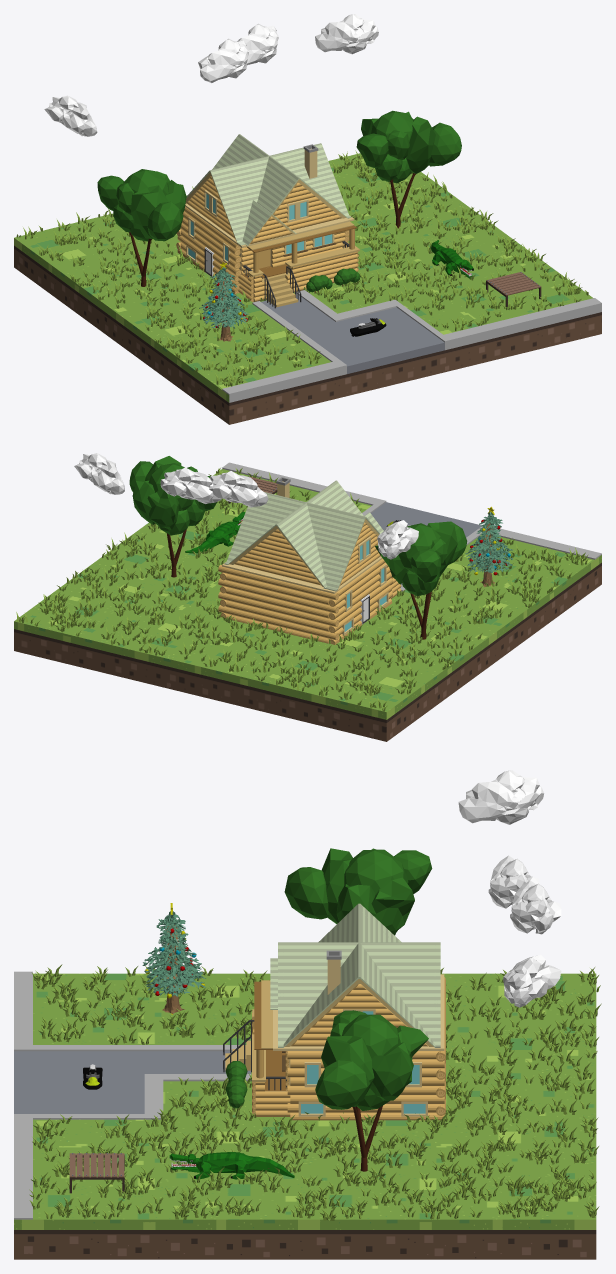
3 views of the same model, one above another, from view 1: azimuth 30°, elevation 25°; view 2: azimuth 150°, elevation 25°; view 3: azimuth 270°, elevation 25° (orthographic). The views are drawn at different scales.
Parts seen in each view (by area): view 1: Cube.006, Cube.1516, Circle.012_Grass_0.192, Cube.007, tree, tree.001, OBJRANDOM_CHRISTMAS_TREE, Cube.009, ANIMAL_COCODRILO; view 2: Cube.006, Cube.1516, Circle.012_Grass_0.192, Cube.007, tree.001, tree, OBJRANDOM_CHRISTMAS_TREE, ANIMAL_COCODRILO; view 3: Cube.006, Circle.012_Grass_0.192, Cube.1516, tree, Cube.007, tree.001, OBJRANDOM_CHRISTMAS_TREE, ANIMAL_COCODRILO, Cube.009.
Part boxes in pixels (left/top/right/bottom): Cube.006: left=14, top=153, right=601, bottom=424; Cube.1516: left=176, top=134, right=359, bottom=308; Circle.012_Grass_0.192: left=16, top=150, right=588, bottom=386; Cube.007: left=44, top=14, right=378, bottom=136; tree: left=356, top=110, right=461, bottom=228; tree.001: left=97, top=169, right=186, bottom=286; OBJRANDOM_CHRISTMAS_TREE: left=199, top=262, right=249, bottom=341; Cube.009: left=486, top=272, right=541, bottom=306; ANIMAL_COCODRILO: left=431, top=240, right=473, bottom=278; Cube.006: left=14, top=462, right=601, bottom=741; Cube.1516: left=218, top=477, right=401, bottom=644; Circle.012_Grass_0.192: left=16, top=468, right=588, bottom=711; Cube.007: left=74, top=453, right=418, bottom=559; tree.001: left=375, top=521, right=467, bottom=639; tree: left=129, top=456, right=216, bottom=577; OBJRANDOM_CHRISTMAS_TREE: left=465, top=506, right=512, bottom=587; ANIMAL_COCODRILO: left=185, top=511, right=245, bottom=553; Cube.006: left=14, top=971, right=596, bottom=1259; Circle.012_Grass_0.192: left=29, top=964, right=601, bottom=1220; Cube.1516: left=223, top=903, right=445, bottom=1120; tree: left=315, top=1010, right=428, bottom=1171; Cube.007: left=458, top=770, right=561, bottom=1007; tree.001: left=284, top=848, right=432, bottom=935; OBJRANDOM_CHRISTMAS_TREE: left=142, top=903, right=205, bottom=1014; ANIMAL_COCODRILO: left=169, top=1152, right=294, bottom=1179; Cube.009: left=69, top=1153, right=124, bottom=1193.
Size of the model in its own units: 4071 by 2176 by 4040.
40 materials, 4 textured.
